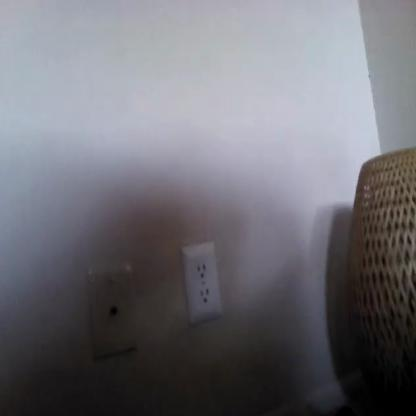OUTLET: (182, 242, 221, 324)
